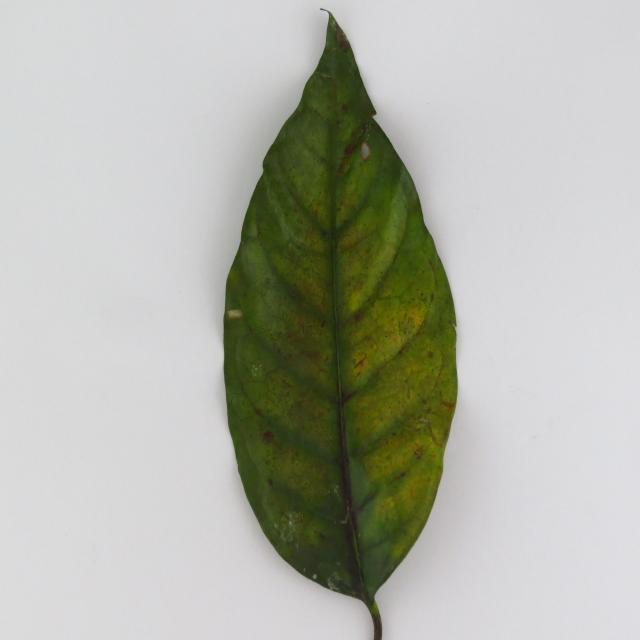DeficienciaNutricional-Potasio: (224, 15, 458, 637)
